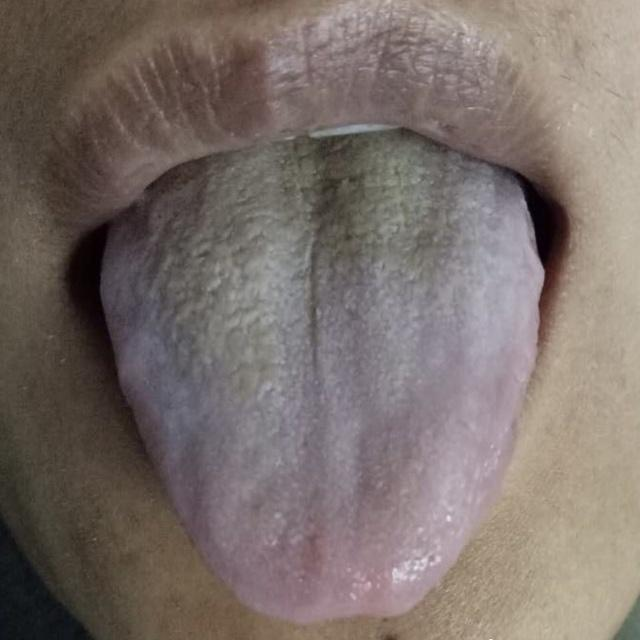huangtaishe: (100, 144, 549, 622)
